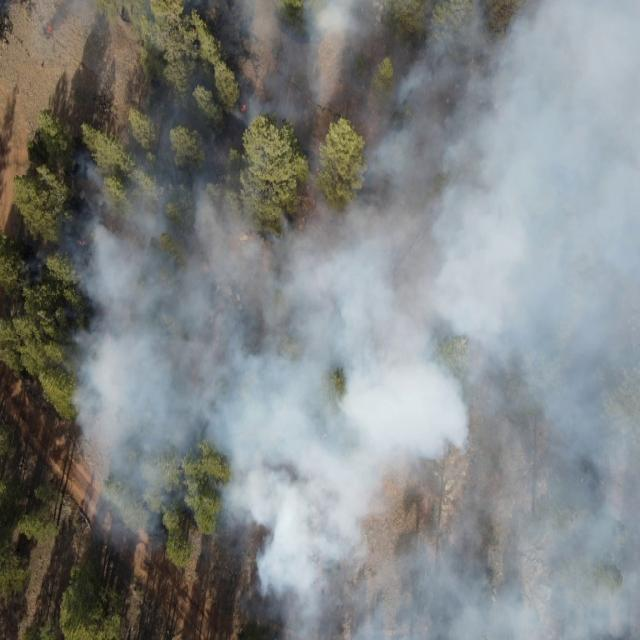fire: (238, 98, 251, 119), (45, 19, 55, 39)
smoke: (77, 144, 639, 520), (131, 3, 640, 142), (261, 526, 640, 639), (81, 236, 92, 252)
